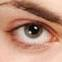eye: (25, 24, 42, 38)
